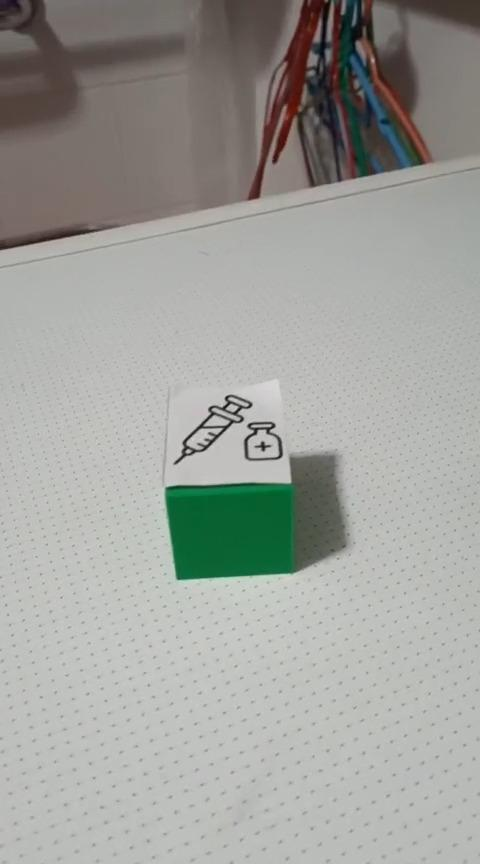antiseptic cream: (161, 377, 297, 580)
